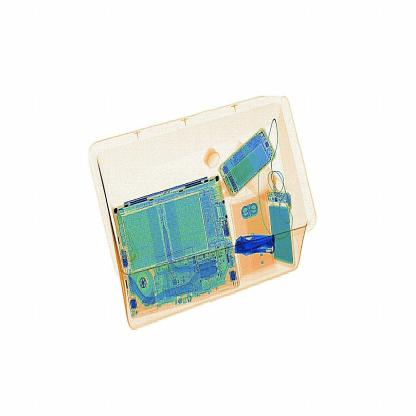knife: (234, 230, 277, 260)
